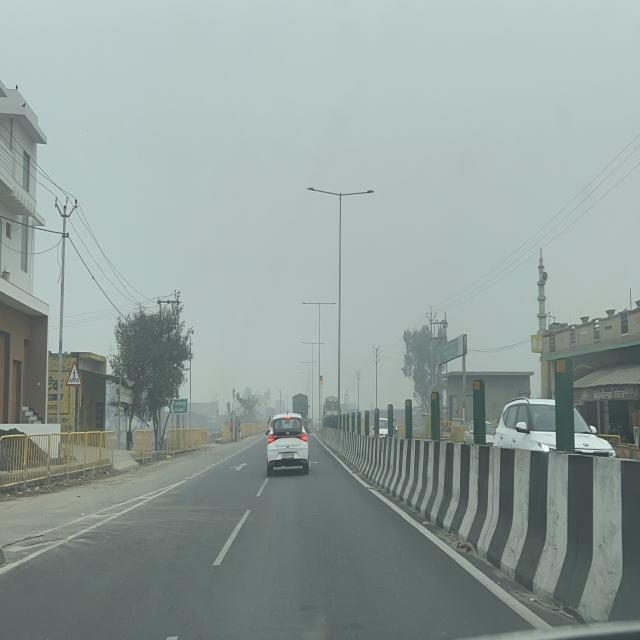GENERAL: (169, 398, 188, 414)
PEDESTRIAN_CROSSING: (66, 360, 83, 387)
